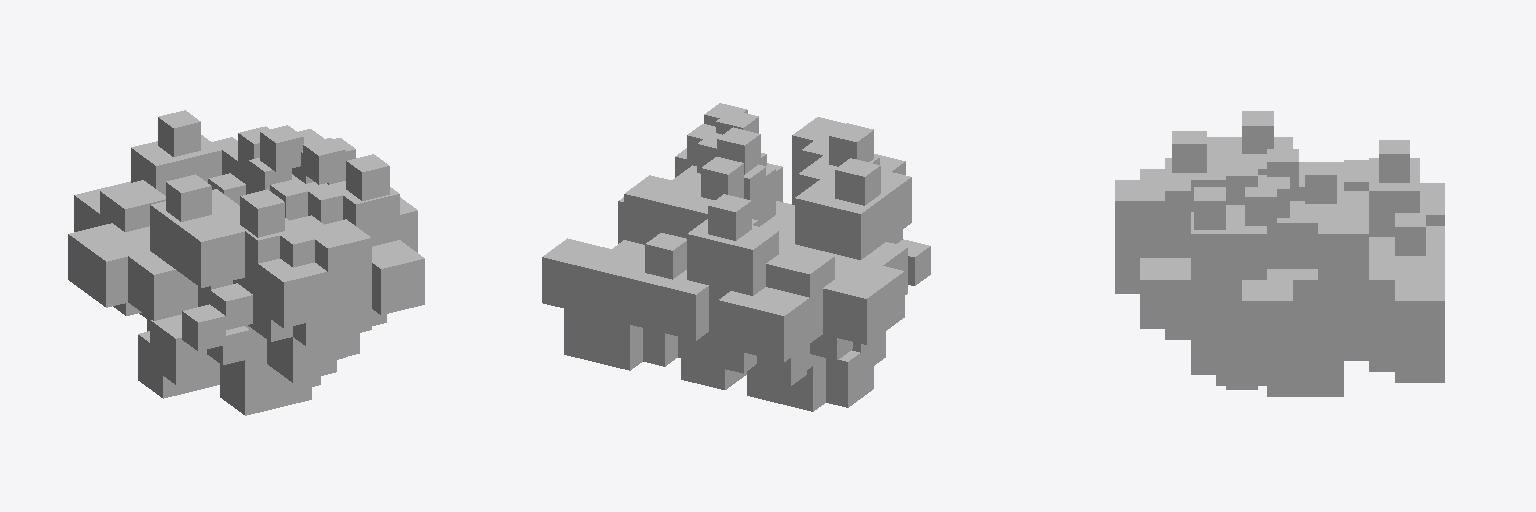
File: Big Asteroid.obj
3 renders of one model, left to right at view 1: azimuth 30°, elevation 25°; view 2: azimuth 150°, elevation 25°; view 3: azimuth 270°, elevation 25°, orthographic.
Parts seen in each view (by area): view 1: Asteroid; view 2: Asteroid; view 3: Asteroid.
Part boxes in pixels (x1,y1,x2,y2): Asteroid: (68, 110, 424, 415); Asteroid: (542, 103, 930, 411); Asteroid: (1115, 111, 1444, 396).
Bounding box in the file's own units: 104 × 79 × 104.